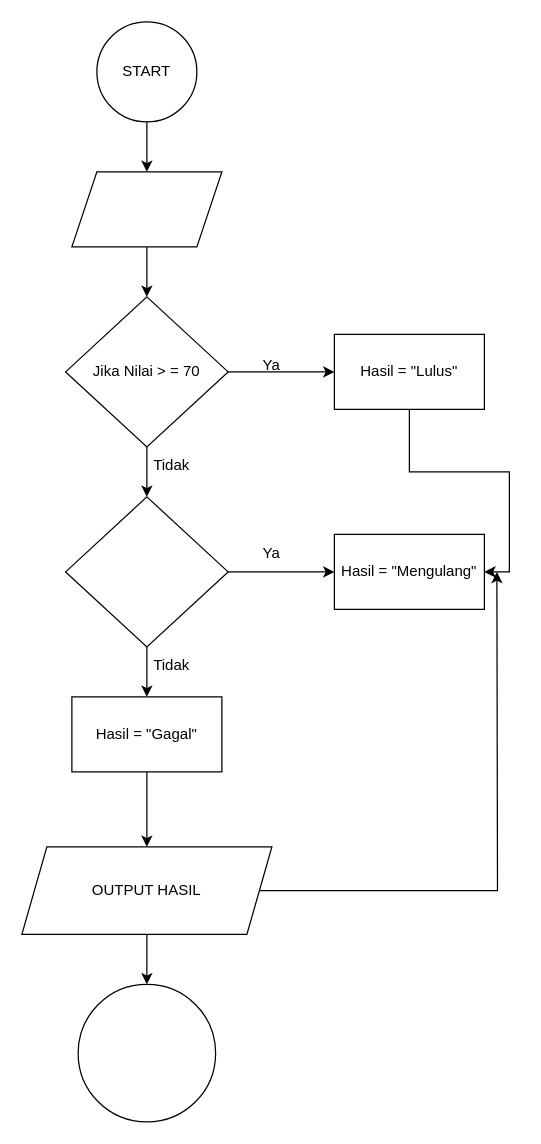
The diagram is 541 pixels wide and 1144 high, and some of its shapes have lost their labels. The shapes that lost their labels are listed below. From the top down, each one's centre as x and y in pixels, then its label:
At (146,209): "INPUT NILAI".
At (146,571): "Jika Nilai > = 60".
At (146,1052): "SELESAI".
